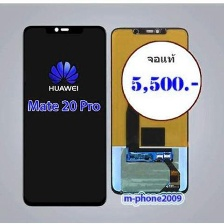phone: (17, 20, 109, 208), (107, 22, 191, 201)
